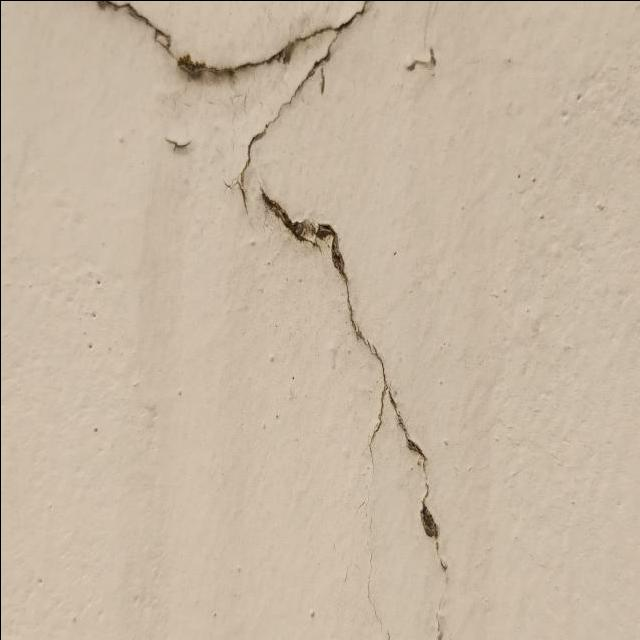SurfaceCrack: (212, 1, 484, 640)
